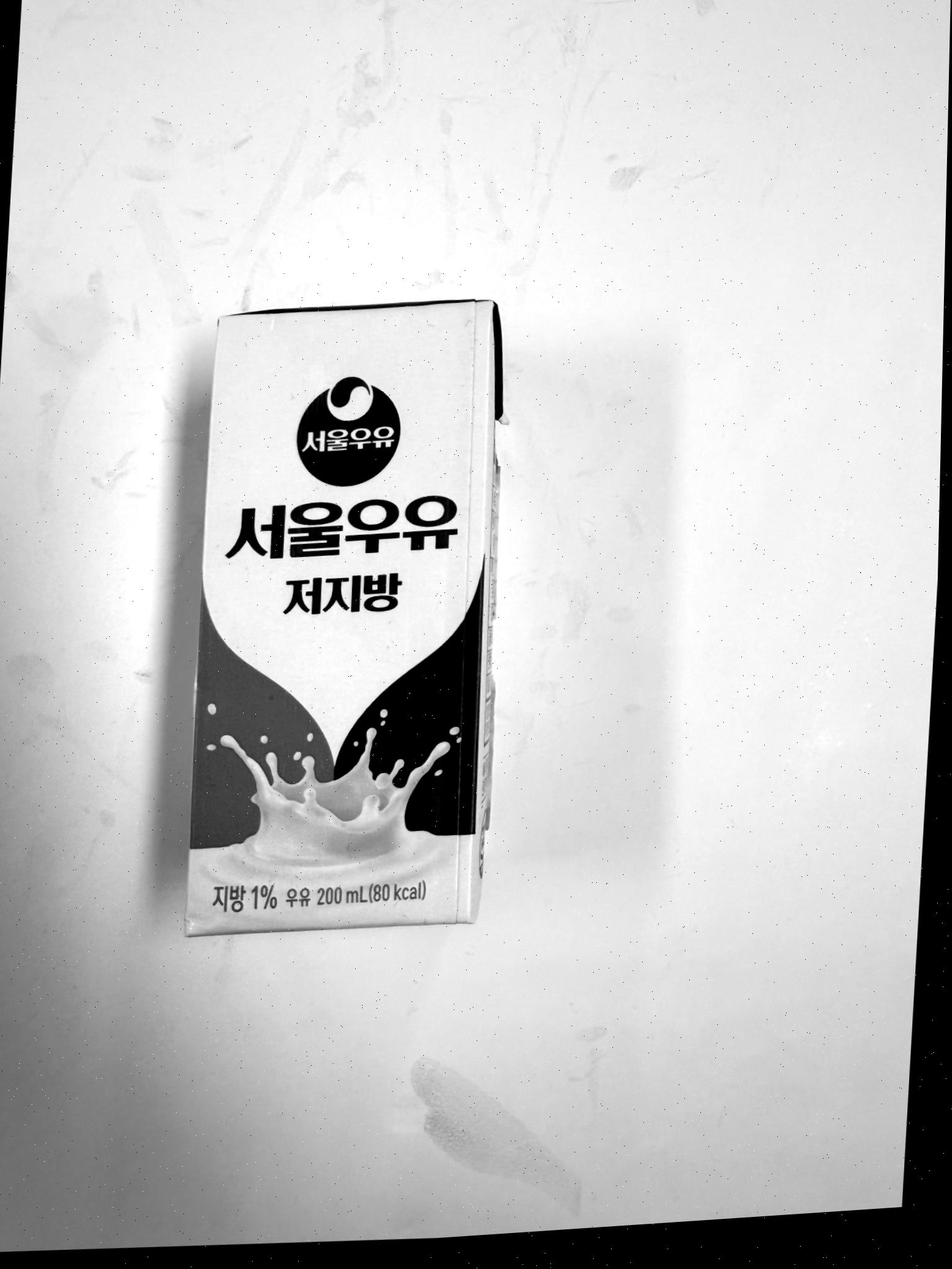milk_blue: (187, 300, 503, 935)
